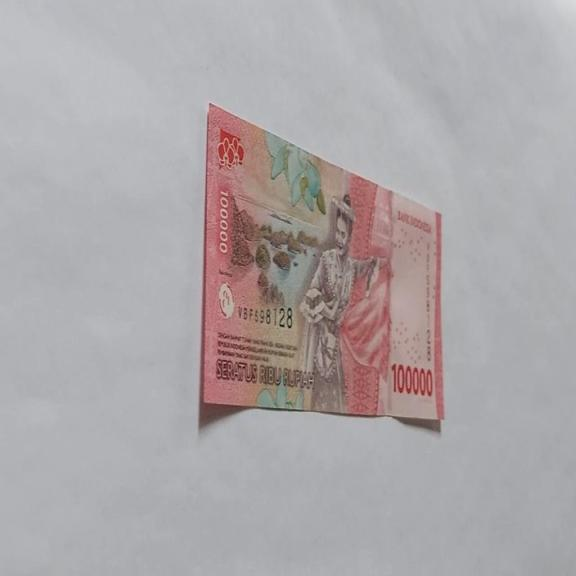Kertas: (200, 101, 444, 431)
